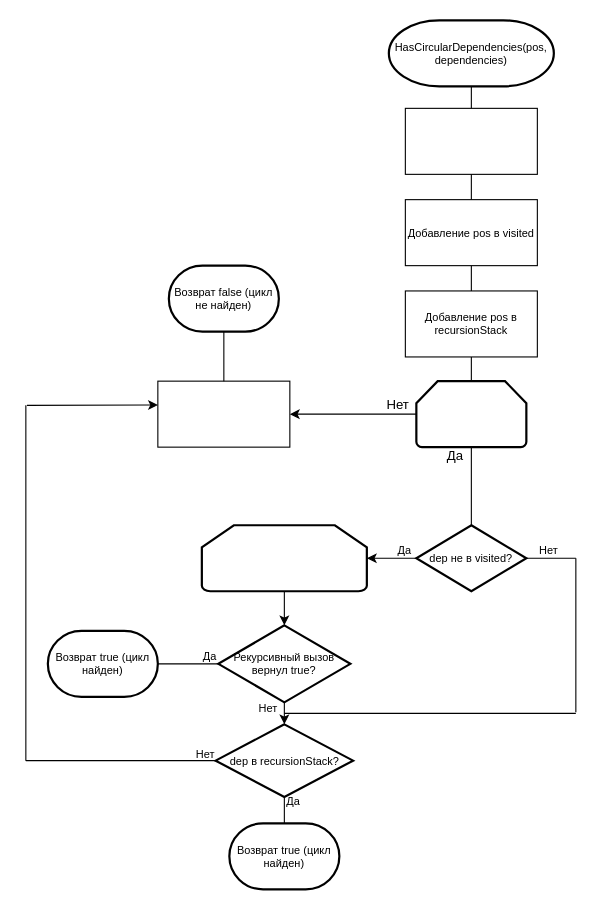
This 596x909 diagram has some shape labels left out. Here are the shapes that lost their labels. From the top down, the centre of each, then its label:
At pixel 470 140: "Создание множеств visited и recursionStack".
At pixel 223 413: "Удаление pos из recursionStack".
At pixel 471 414: "Для каждой dep из dependencies".
At pixel 283 558: "Рекурсивный вызов HasCircularDependencies(dep, dependencies_[dep])".
